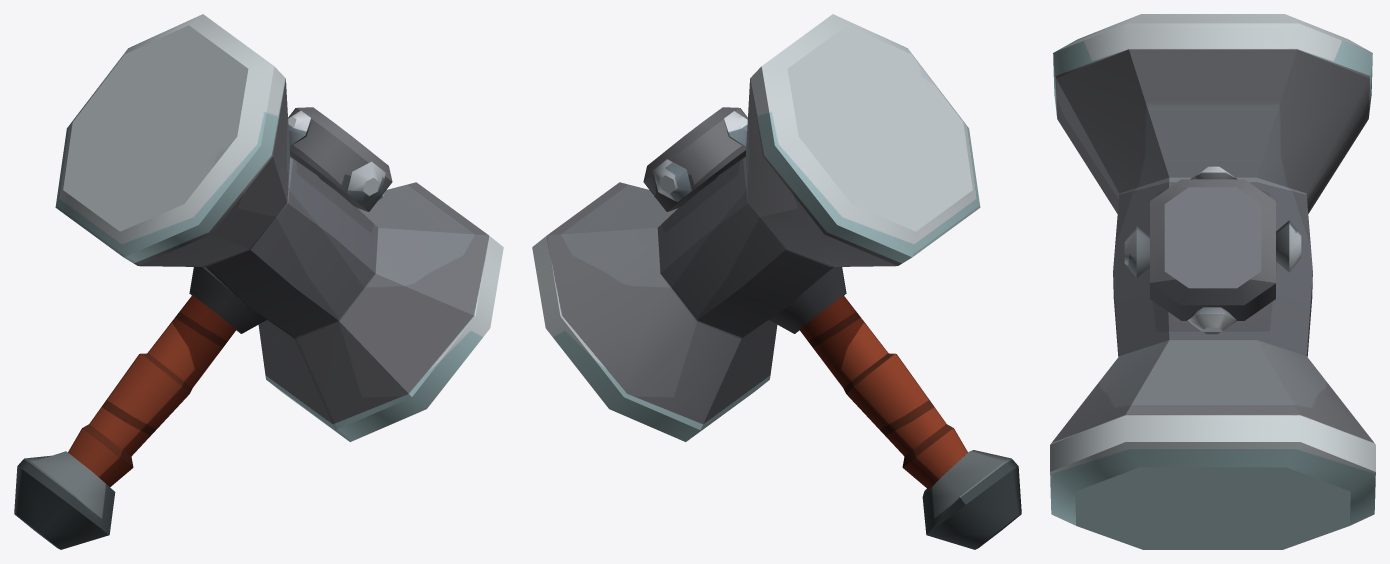
File: Hard_04.FBX
3 renders of one model, left to right at view 1: azimuth 30°, elevation 25°; view 2: azimuth 150°, elevation 25°; view 3: azimuth 270°, elevation 25°, orthographic. The views are drawn at different scales.
Parts seen in each view (by area): view 1: Hard_04; view 2: Hard_04; view 3: Hard_04.
Part boxes in pixels (left/top/right/bottom): Hard_04: left=14, top=14, right=503, bottom=549; Hard_04: left=532, top=14, right=1021, bottom=549; Hard_04: left=1050, top=14, right=1375, bottom=549.
Bounding box in the file's own units: 68.32 × 67.33 × 35.65.
